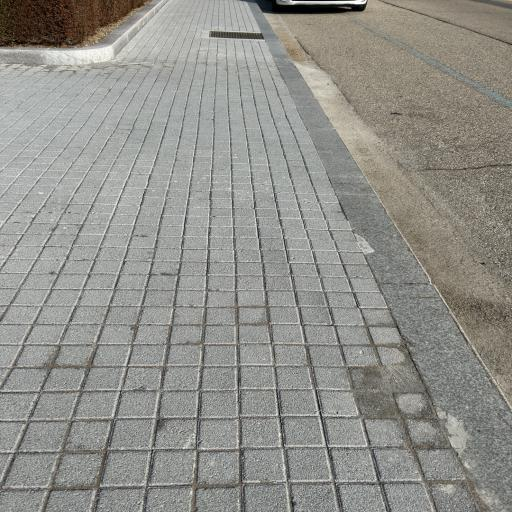drain: (209, 31, 264, 39)
